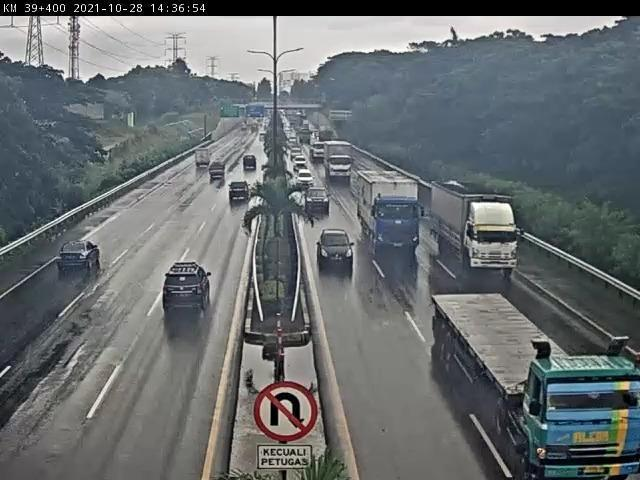car: (160, 269, 208, 331), (53, 245, 98, 278), (323, 231, 352, 273), (306, 188, 329, 216)
truck: (456, 309, 636, 474), (357, 182, 423, 258), (460, 199, 506, 273), (332, 142, 351, 180)
